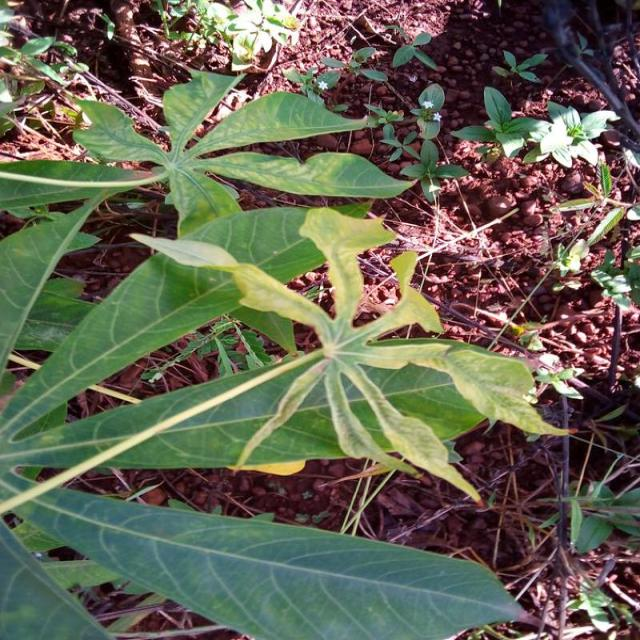Mosaico: (182, 217, 527, 489), (63, 79, 369, 235)
